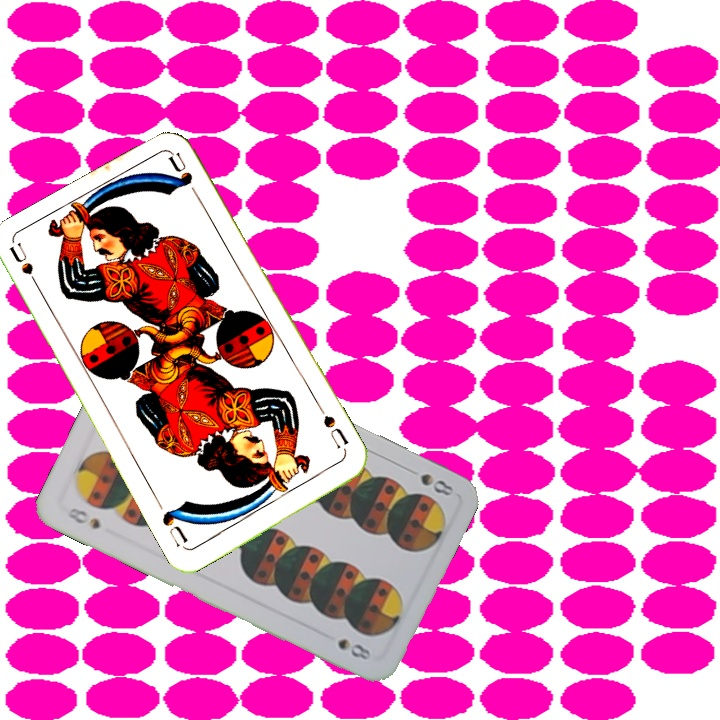S8: (416, 469, 456, 499), (63, 503, 103, 532)
SU: (6, 240, 45, 296), (319, 411, 351, 458)
